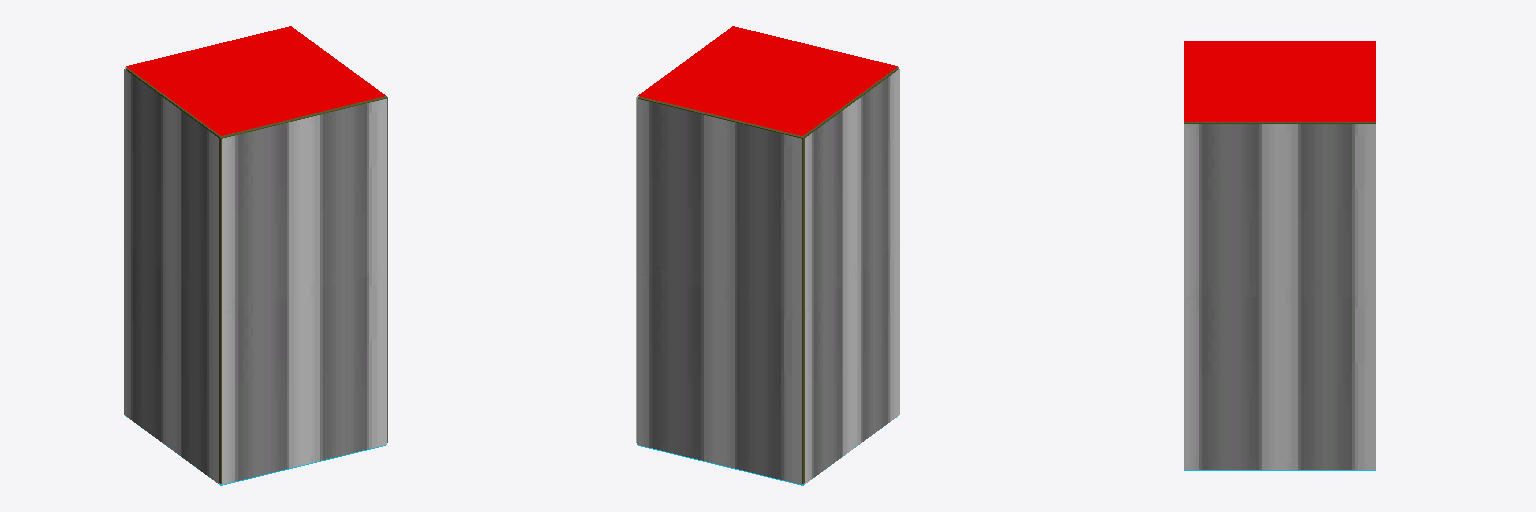
3 views of the same model, side by side, from view 1: azimuth 30°, elevation 25°; view 2: azimuth 150°, elevation 25°; view 3: azimuth 270°, elevation 25° (orthographic).
Parts seen in each view (by area): view 1: Heatshield4, Heatshield7, Heatshield3, Heatshield1; view 2: Heatshield6, Heatshield7, Heatshield3, Heatshield1; view 3: Heatshield5, Heatshield3.
Part boxes in pixels (x1,y1,x2,y2): Heatshield4: (222, 99, 386, 484); Heatshield7: (124, 69, 218, 483); Heatshield3: (126, 26, 385, 135); Heatshield1: (126, 68, 385, 483); Heatshield6: (637, 99, 801, 484); Heatshield7: (805, 69, 899, 483); Heatshield3: (638, 26, 897, 135); Heatshield1: (638, 68, 897, 483); Heatshield5: (1184, 124, 1375, 469); Heatshield3: (1184, 41, 1375, 121).
Size of the model in its own units: 2.04 by 4.04 by 2.04.
4 materials, 1 textured.